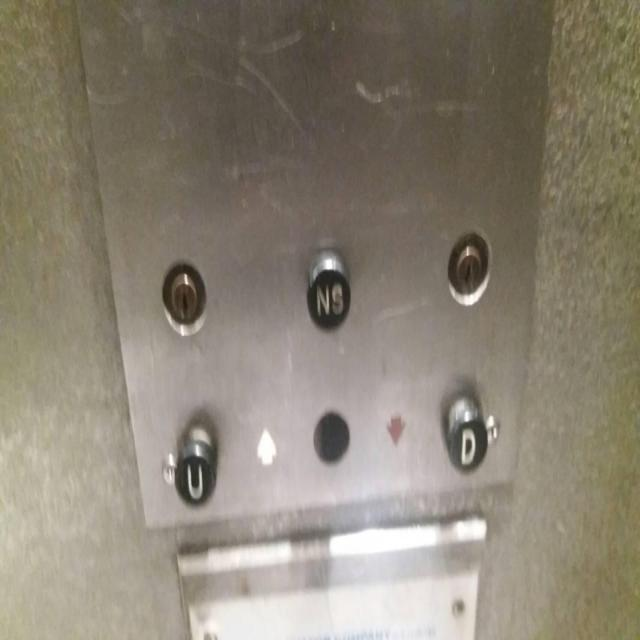D: (439, 395, 491, 477)
NS: (303, 249, 352, 340)
U: (174, 422, 217, 510)
empty: (309, 402, 352, 470)
keyhole: (445, 221, 494, 311), (159, 258, 209, 342)
